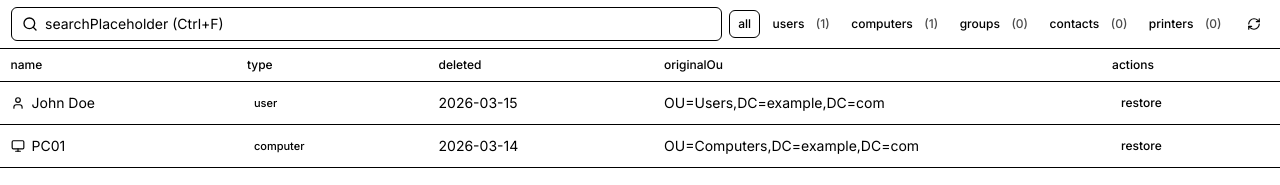
RecycleBin › filters by name search
Type "PC" into the field with test id "search-input" at (378, 24), box [45,13,711,34]
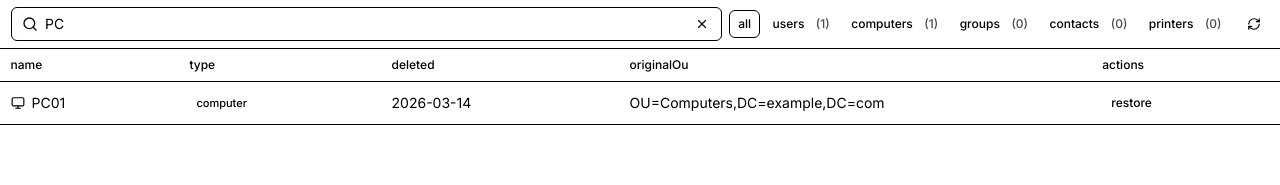
Check: the text "PC01" is shown, box [32,92,65,113]
Check: the number of rows with test id "recycle-bin-row" is 1, box [0,81,1279,124]
